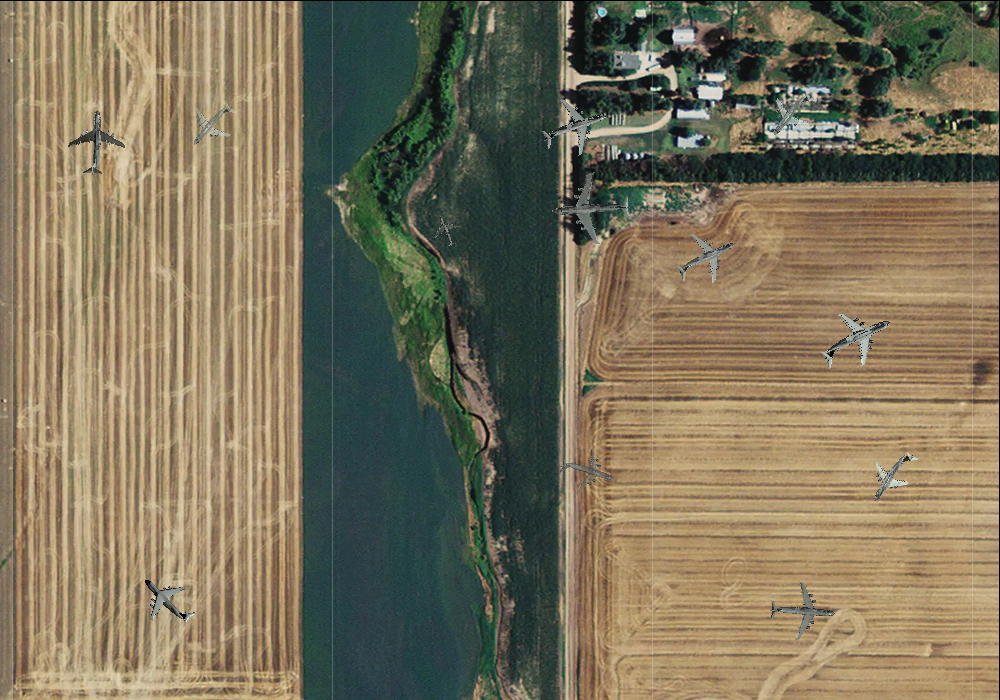plane: (807, 294, 905, 387), (533, 86, 616, 168), (126, 559, 208, 641), (665, 218, 747, 299), (549, 169, 633, 248), (856, 438, 931, 516), (176, 88, 248, 161), (757, 77, 829, 150), (767, 578, 837, 645), (553, 439, 621, 505), (63, 109, 126, 175), (425, 210, 466, 251)
